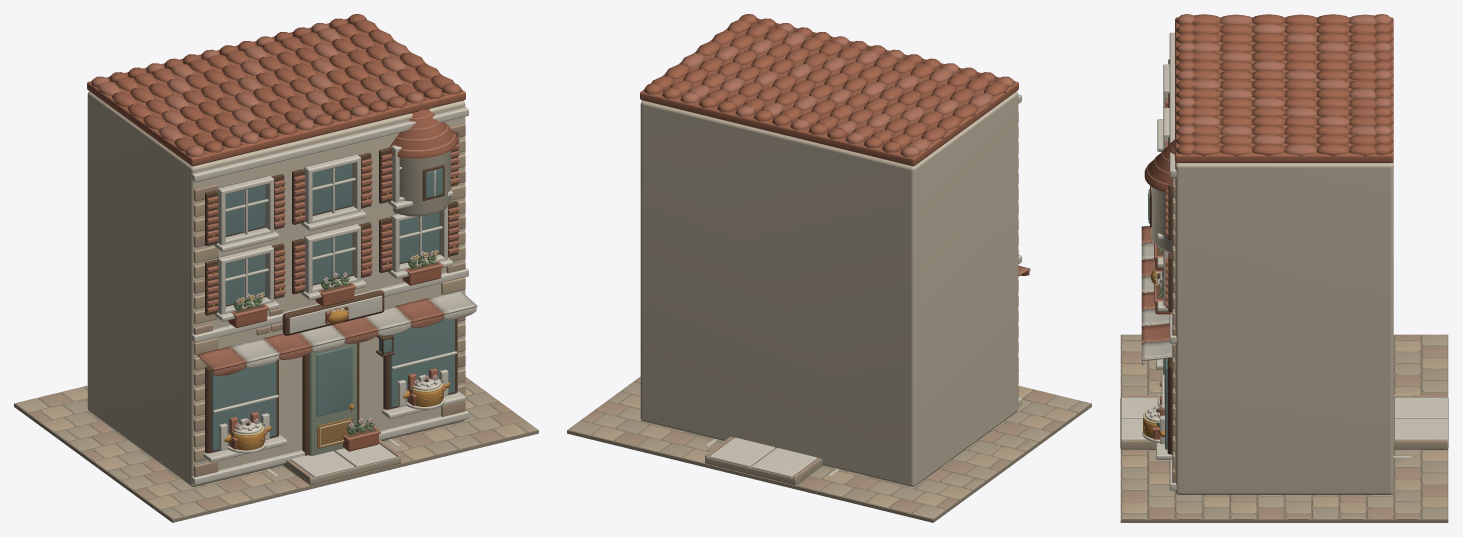
The model's file is town.glb.
3 views of the same model, side by side, from view 1: azimuth 30°, elevation 25°; view 2: azimuth 150°, elevation 25°; view 3: azimuth 270°, elevation 25° (orthographic). The views are drawn at different scales.
Visible parts, largest first — view 1: bakeryMesh, roadMesh, corner_houseMesh, flower_shopMesh, sidewalkMesh, book_shopMesh, cafeMesh, cheese_shopMesh, patisserieMesh; view 2: bakeryMesh, roadMesh, flower_shopMesh, sidewalkMesh, cafeMesh, cheese_shopMesh, book_shopMesh; view 3: bakeryMesh, roadMesh, flower_shopMesh, sidewalkMesh, corner_houseMesh, cafeMesh, book_shopMesh, cheese_shopMesh, house_roseMesh.
Boxes of the visible parts, x1,y1,x2,y2 form: bakeryMesh: (87,14,477,486); roadMesh: (14,377,538,522); corner_houseMesh: (120,15,457,216); flower_shopMesh: (92,14,445,449); sidewalkMesh: (283,418,400,485); book_shopMesh: (149,45,451,450); cafeMesh: (97,20,470,450); cheese_shopMesh: (117,20,455,450); patisserieMesh: (227,280,444,453); bakeryMesh: (640,14,1030,486); roadMesh: (567,376,1091,522); flower_shopMesh: (644,17,1013,156); sidewalkMesh: (705,436,822,485); cafeMesh: (653,14,995,149); cheese_shopMesh: (661,33,1007,135); book_shopMesh: (696,19,1005,109); bakeryMesh: (1141,14,1393,494); roadMesh: (1120,334,1448,522); flower_shopMesh: (1152,14,1392,439); sidewalkMesh: (1120,395,1448,449); corner_houseMesh: (1144,17,1392,252); cafeMesh: (1143,14,1376,434); book_shopMesh: (1157,14,1303,443); cheese_shopMesh: (1143,14,1374,438); house_roseMesh: (1165,15,1376,226).
Size of the model in its own units: 8 by 7.07 by 6.
